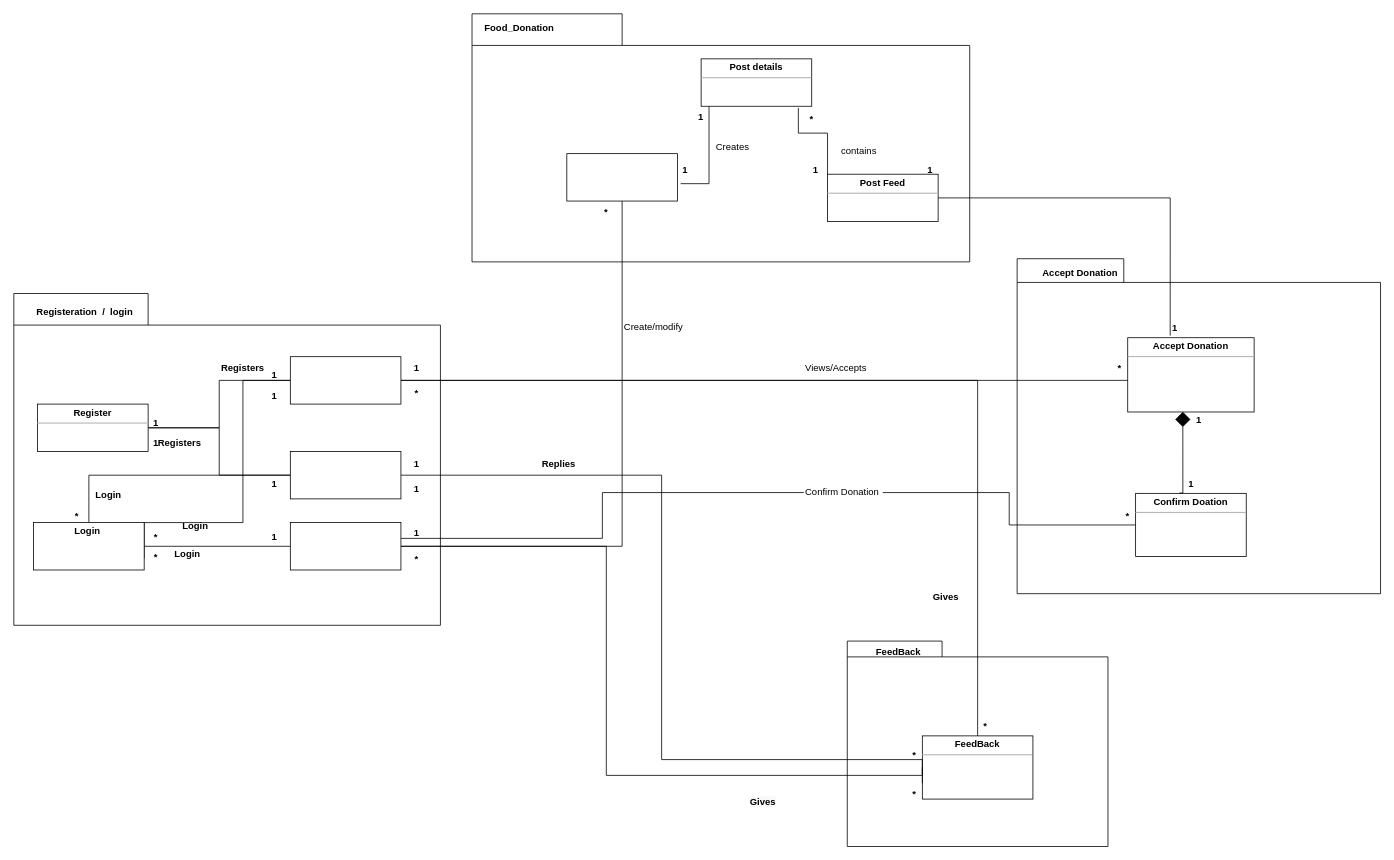
This 1394x860 diagram has some shape labels left out. Here are the shapes that lost their labels. From the top down, the centre of each, then its label:
the point at 621,177: Donation Post (crud)
the point at 345,380: NGO
the point at 345,475: Admin
the point at 345,546: Restaurant/caterer
